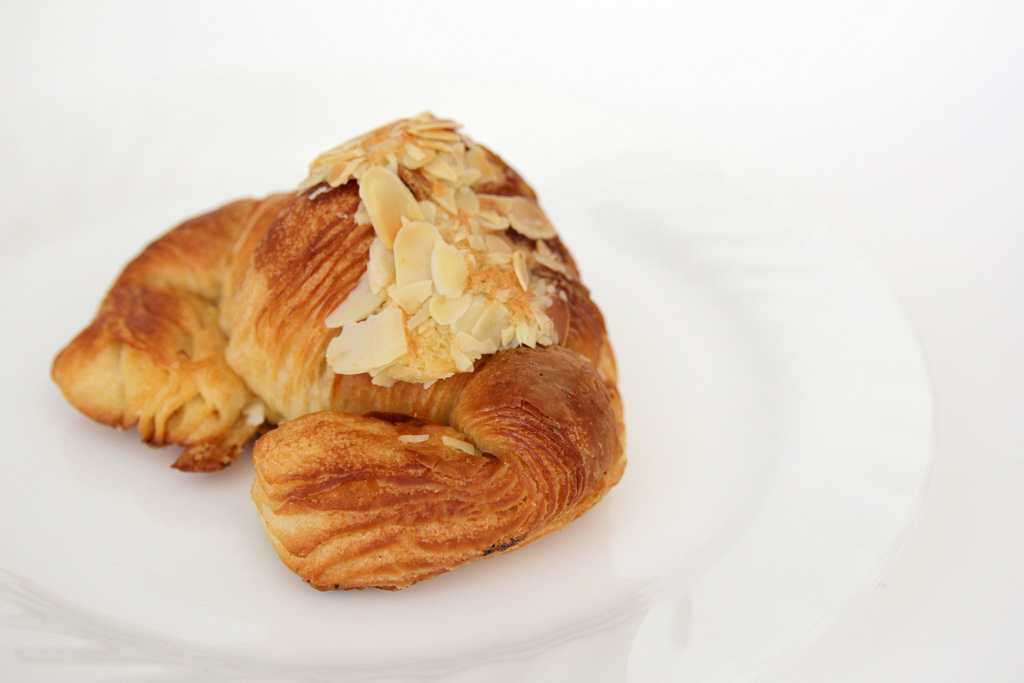slice of bread: (42, 111, 655, 602)
